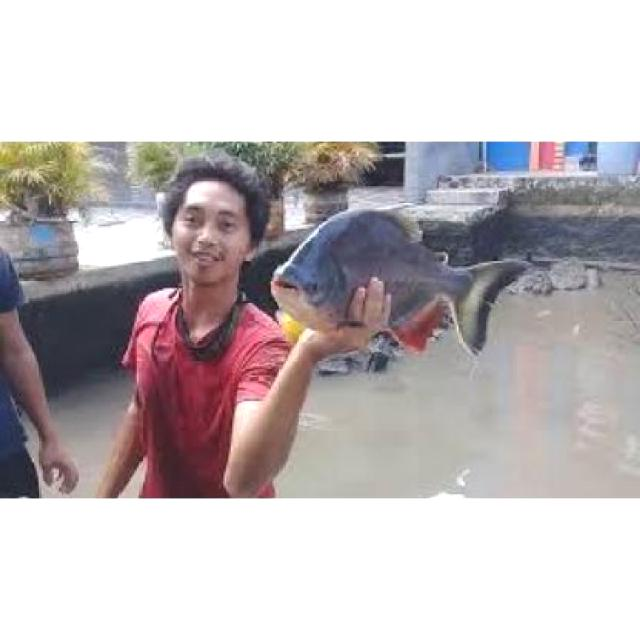ikan-pacu: (272, 197, 503, 348)
